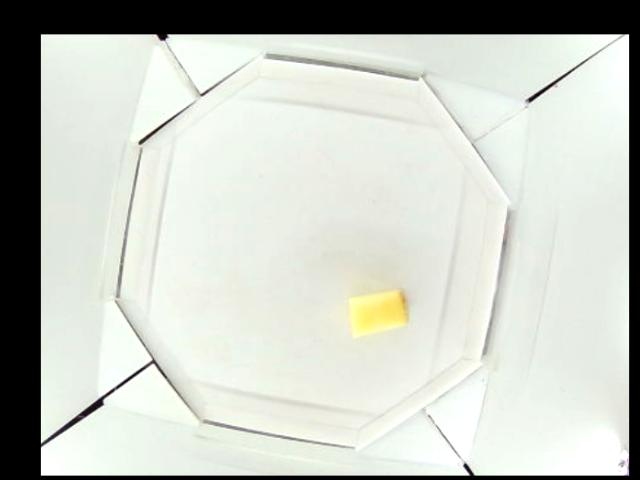Potato: (348, 291, 408, 333)
